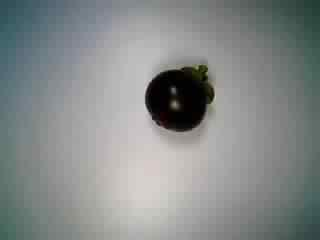mangosteen: (140, 62, 215, 133)
